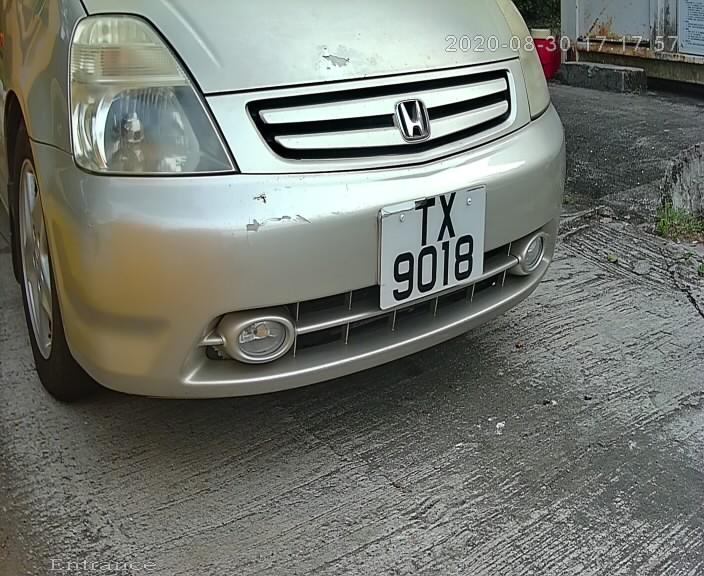License Plate: (375, 170, 491, 317)
